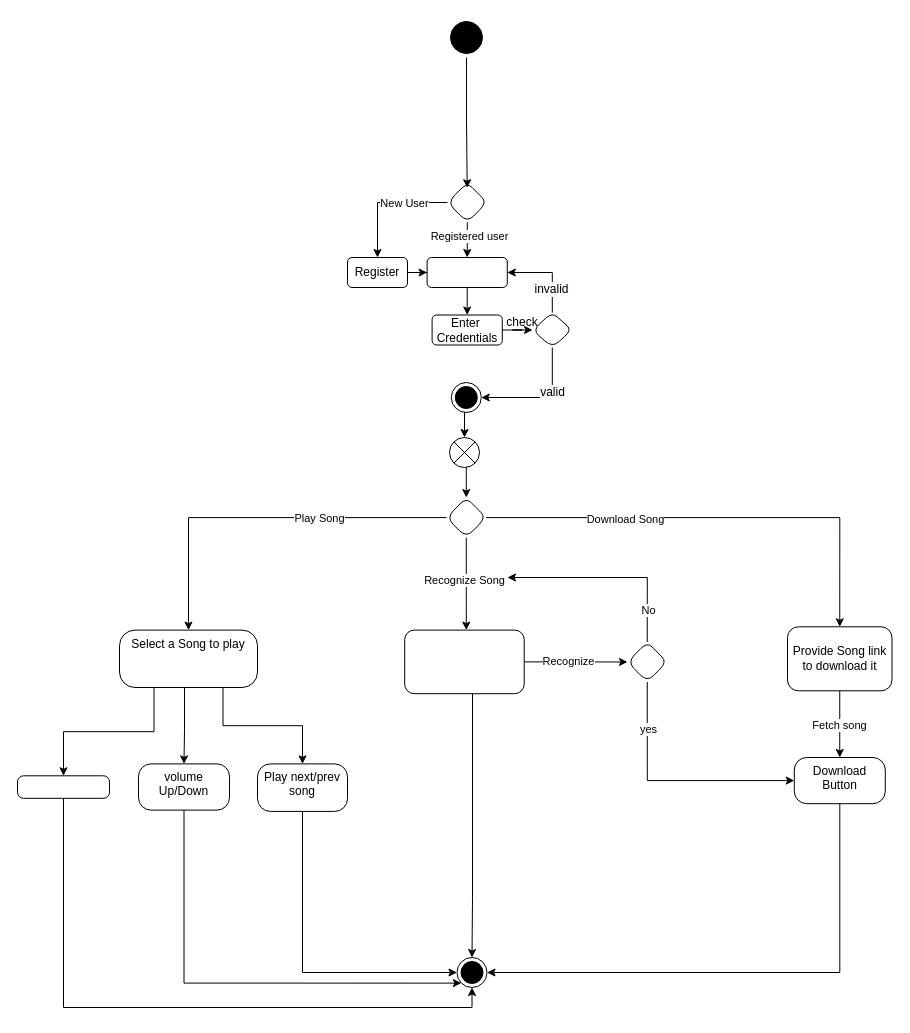
Some shapes in this 910 by 1033 pixel diagram are drawn without their labels. The shapes that lost their labels are listed below. From the top down, each one's box as (x1, y1, x2, y2) in pixels, then its label:
(426, 256, 507, 288): Login
(404, 629, 524, 694): Play unknow song to recognize it
(16, 775, 110, 798): Play/pause
